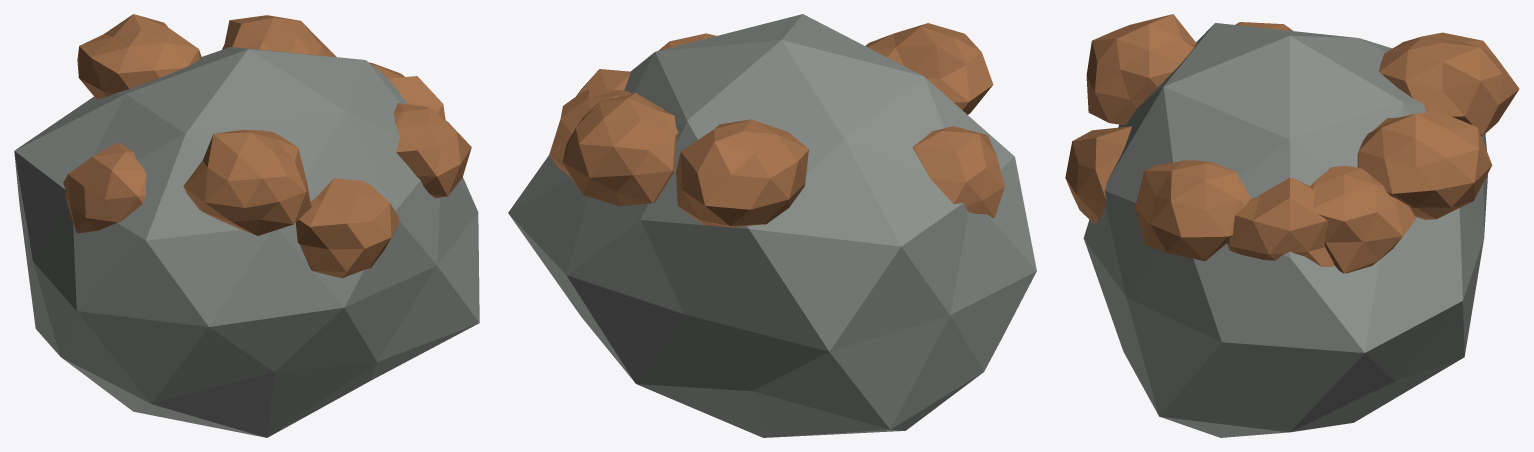
File: iron_ore.fbx
The picture shows the model from 3 angles, left to right: view 1: azimuth 30°, elevation 25°; view 2: azimuth 150°, elevation 25°; view 3: azimuth 270°, elevation 25°; orthographic projection. The views are drawn at different scales.
Visible parts, largest first — view 1: SM_iron_ore; view 2: SM_iron_ore; view 3: SM_iron_ore.
Part boxes in pixels (left/top/right/bottom): SM_iron_ore: left=14, top=14, right=479, bottom=437; SM_iron_ore: left=508, top=14, right=1036, bottom=437; SM_iron_ore: left=1065, top=14, right=1519, bottom=437.
Bounding box in the file's own units: 19.91 × 16.4 × 17.22.
